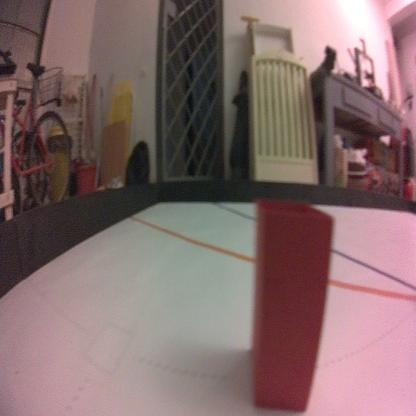red: (250, 195, 335, 416)
